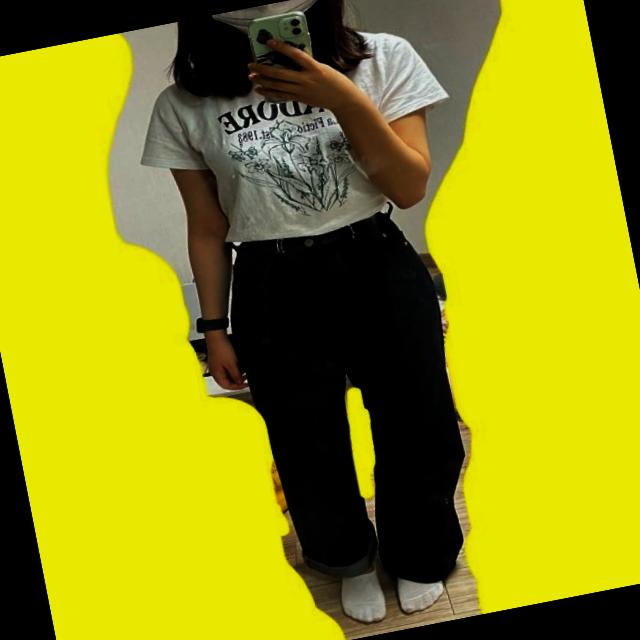denimpants: (214, 204, 488, 601)
shortsleeve: (126, 9, 476, 267)
